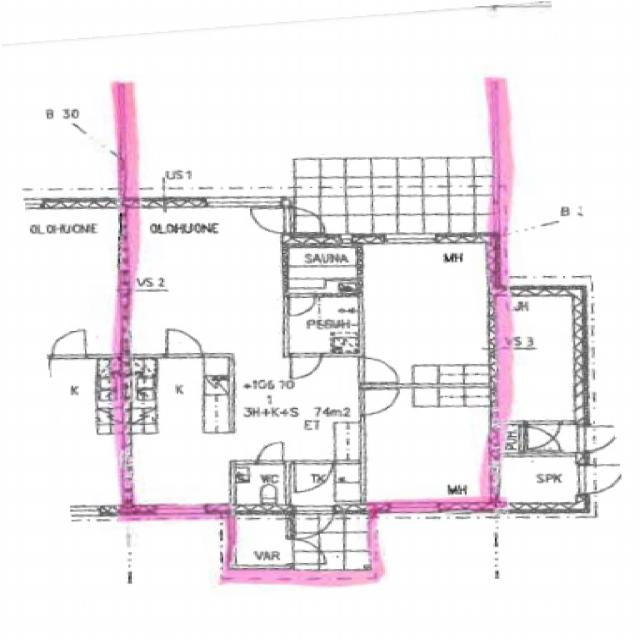door: (296, 502, 334, 540), (293, 459, 331, 492), (166, 329, 200, 358), (252, 209, 294, 232), (283, 209, 324, 232), (285, 539, 324, 563), (358, 390, 396, 414), (358, 358, 395, 382), (291, 354, 322, 381), (290, 292, 316, 316), (258, 441, 282, 463)
